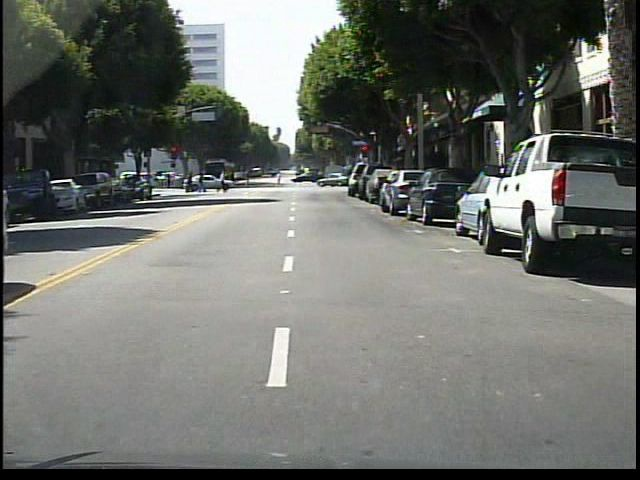person: (216, 166, 237, 196)
